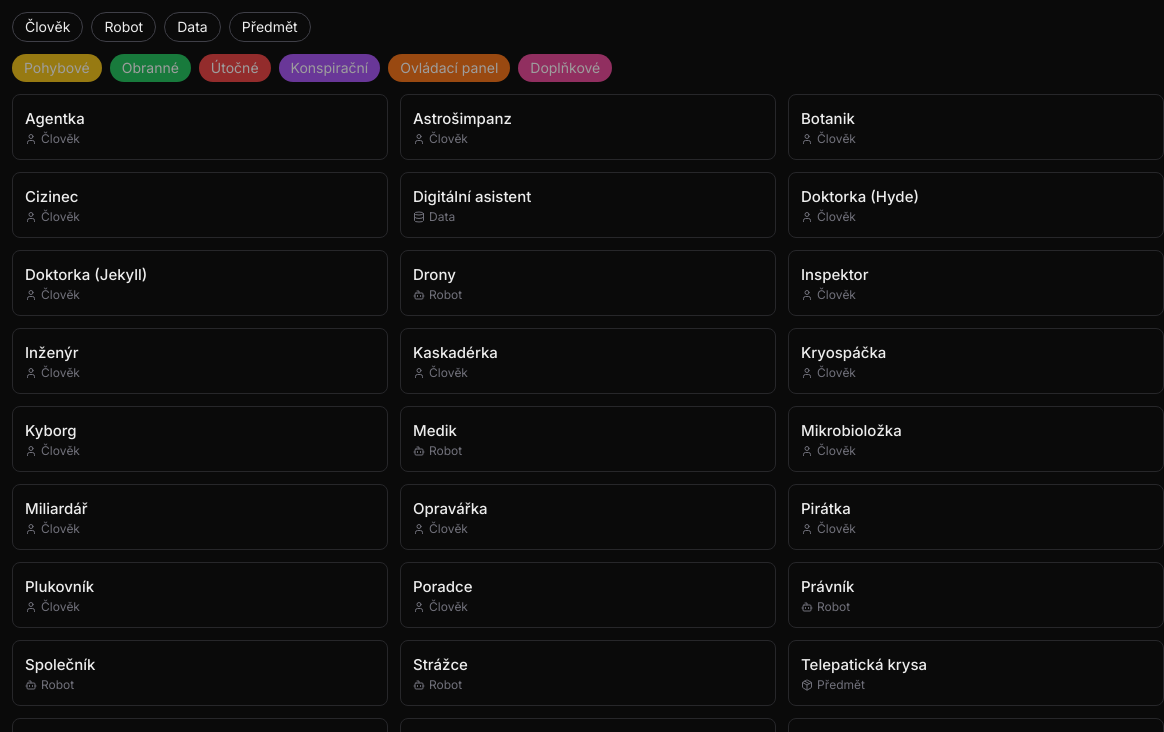
Scenario: CharacterList › filters by character type (Robot → 5 robots)
Click the button "Robot" at (124, 27), box [92,12,156,42]
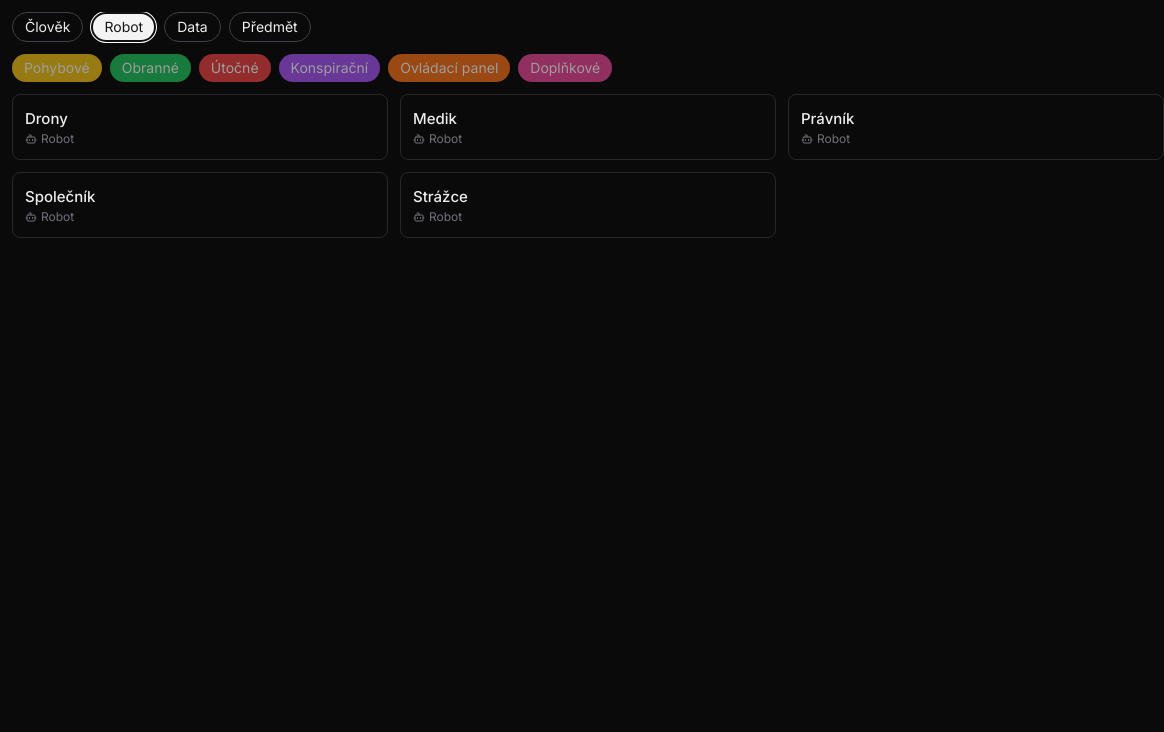
Check: the link "Strážce Robot" is shown, box [400,172,776,238]
Check: the number of links is 5, box [12,94,388,160]; [400,94,776,160]; [788,94,1163,160]; [12,172,388,238]; [400,172,776,238]
Check: the link "Agentka" is gone
